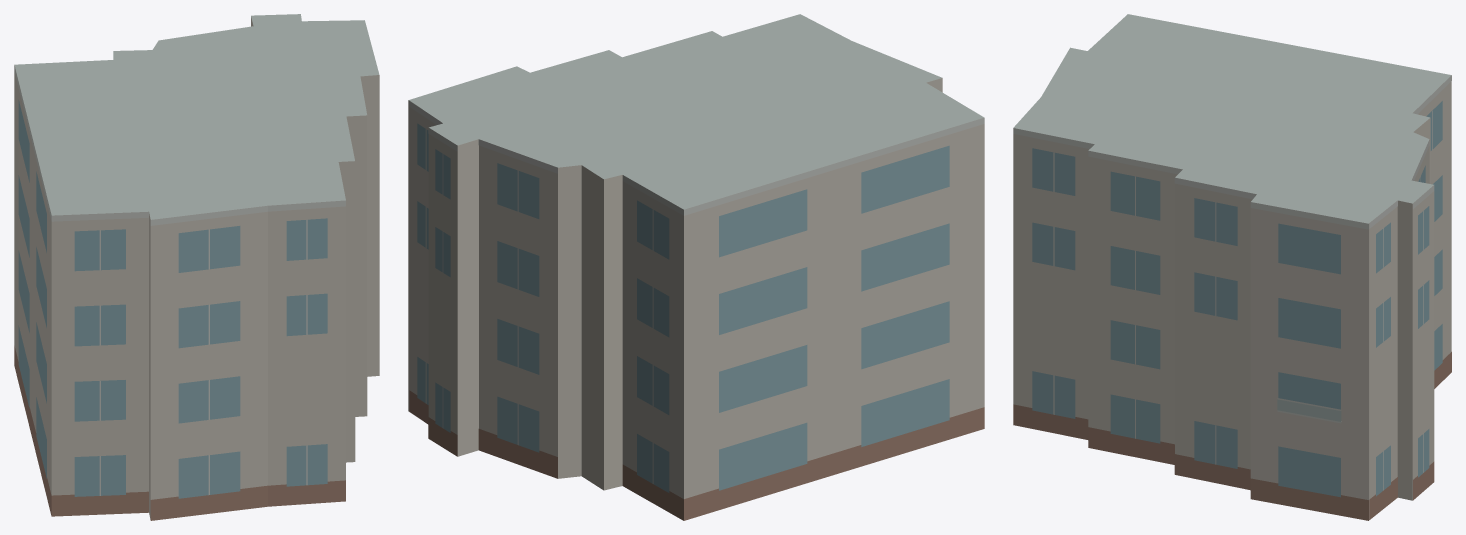
The model's file is survey-upis-32773737.glb.
3 renders of one model, left to right at view 1: azimuth 30°, elevation 25°; view 2: azimuth 150°, elevation 25°; view 3: azimuth 270°, elevation 25°, orthographic. The views are drawn at different scales.
Parts seen in each view (by area): view 1: survey-upis-32773737.tmp; view 2: survey-upis-32773737.tmp; view 3: survey-upis-32773737.tmp.
Boxes of the visible parts, x1,y1,x2,y2 form: survey-upis-32773737.tmp: (14, 14, 379, 520); survey-upis-32773737.tmp: (408, 14, 984, 520); survey-upis-32773737.tmp: (1013, 14, 1451, 520).
Size of the model in its own units: 18.47 by 12.2 by 16.33.
